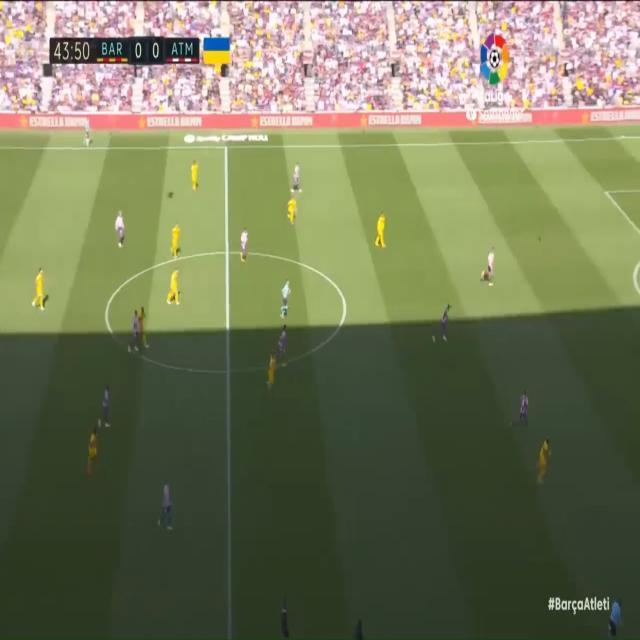ball: (535, 234, 544, 248)
player: (159, 476, 176, 538), (432, 303, 454, 349), (535, 431, 553, 486), (137, 295, 152, 356), (97, 388, 114, 438), (166, 267, 184, 313), (32, 268, 48, 318), (511, 391, 531, 431), (261, 348, 278, 394), (479, 246, 496, 291), (111, 205, 130, 245), (86, 429, 100, 482), (275, 325, 291, 370), (127, 309, 142, 355), (374, 209, 388, 251), (237, 227, 252, 266), (170, 215, 182, 262), (284, 193, 300, 227), (291, 157, 303, 200), (190, 159, 202, 191)
referee: (279, 273, 295, 325), (606, 595, 622, 640), (83, 115, 94, 147)
